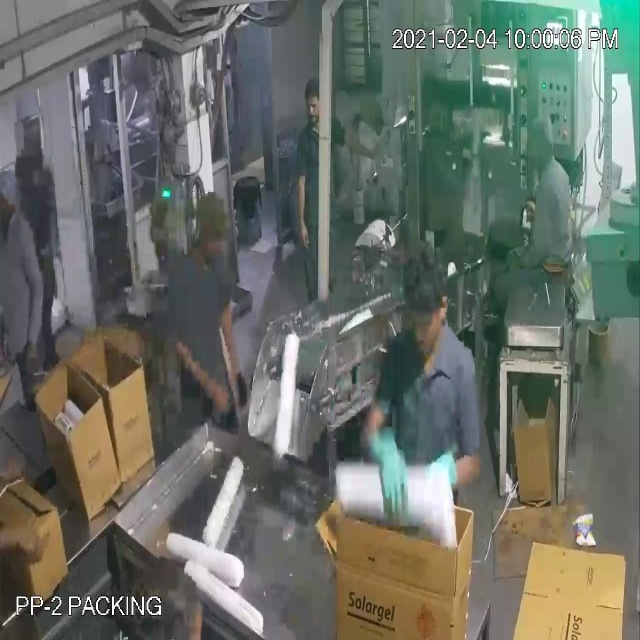Guantes: (354, 421, 405, 510)
Sin_guantes: (159, 319, 232, 424), (16, 252, 51, 382), (1, 495, 53, 579), (209, 290, 249, 383), (290, 159, 318, 259), (338, 126, 381, 174)
